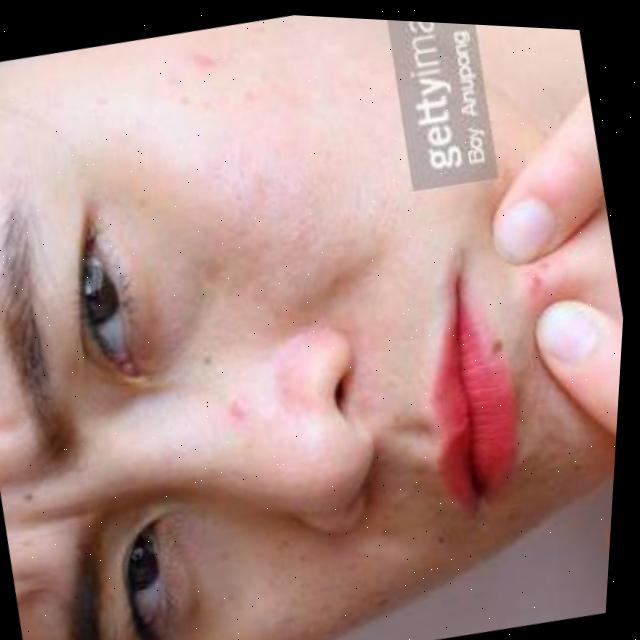Acne: (513, 265, 555, 304)
